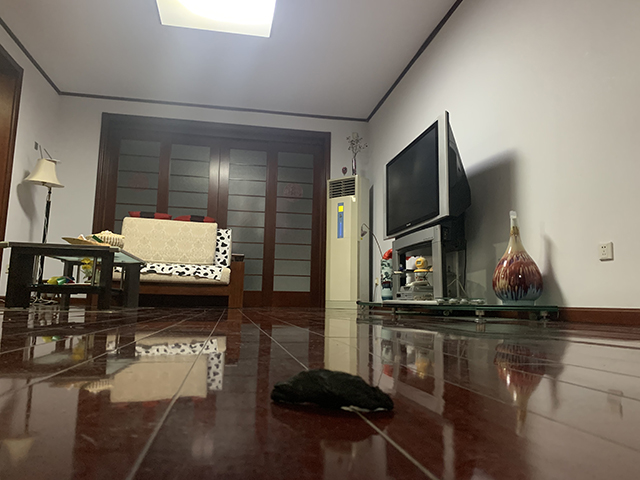cabinet: (356, 224, 564, 325)
feces: (269, 365, 396, 414)
sofa: (89, 211, 246, 310)
table: (1, 239, 149, 315)
wire: (1, 215, 59, 306)
